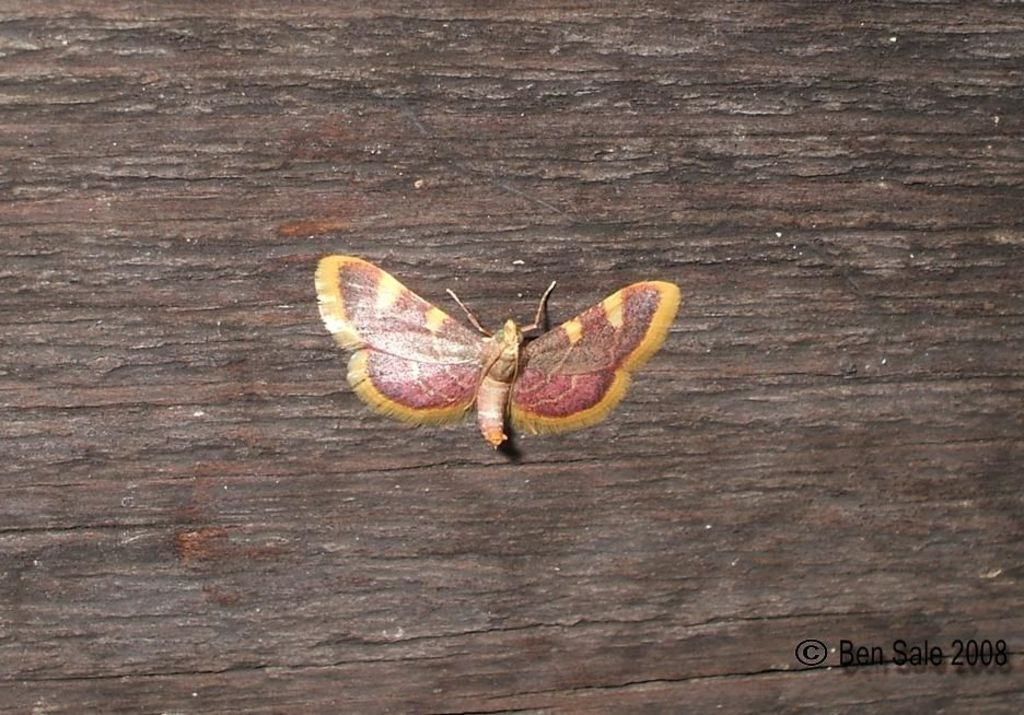Butterfly: (305, 234, 698, 476)
